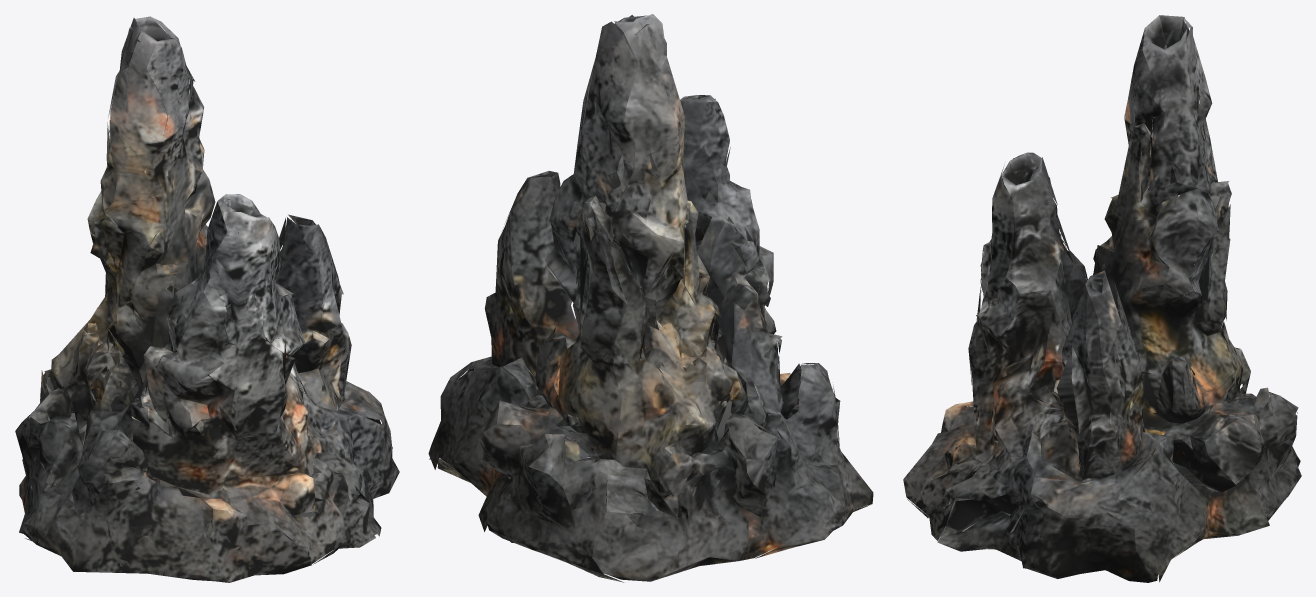
Rendered from vent.glb.
3 renders of one model, left to right at view 1: azimuth 30°, elevation 25°; view 2: azimuth 150°, elevation 25°; view 3: azimuth 270°, elevation 25°, orthographic. The views are drawn at different scales.
Visible parts, largest first — view 1: Abyss vent | Lux3D; view 2: Abyss vent | Lux3D; view 3: Abyss vent | Lux3D.
Boxes of the visible parts, box(x1,y1,x2,y2) form: Abyss vent | Lux3D: box(15, 16, 399, 582); Abyss vent | Lux3D: box(428, 14, 873, 582); Abyss vent | Lux3D: box(903, 15, 1301, 582).
Size of the model in its own units: 0.7836 by 1 by 0.766.
1 material, 1 textured.
